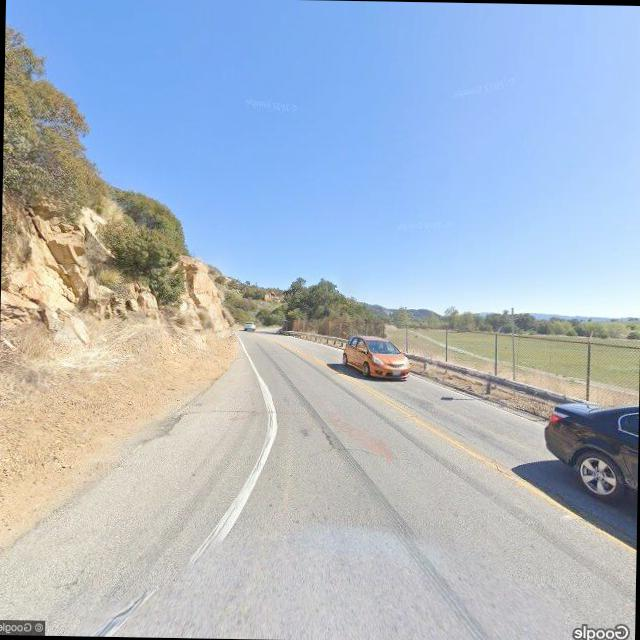crack: (184, 400, 274, 418), (348, 442, 410, 460), (318, 418, 338, 451)
